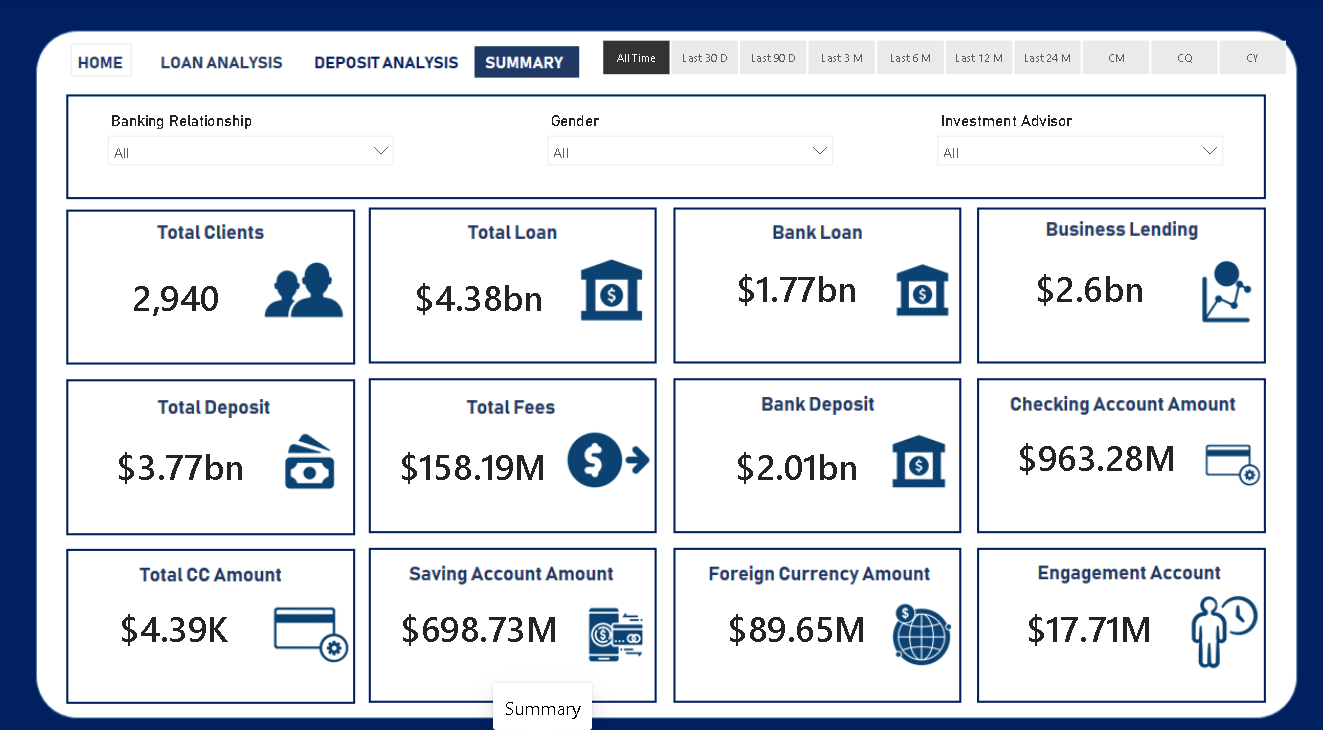

Layout of this report page (visuals, bound fields, positions):
{"tool":"powerbi","page":{"name":"Summary","canvas":[1280,720],"ordinal":3},"visuals":[{"type":"card","fields":{"Values":["DAX Measures.Engagment Length"]},"box":[946.3,546.4,198.2,114.9],"z":0},{"type":"card","fields":{"Values":["DAX Measures.Foreign Currency Account"]},"box":[667.2,546.4,198.2,114.9],"z":1000},{"type":"card","fields":{"Values":["DAX Measures.Bank Deposit"]},"box":[667.2,390.5,198.2,114.9],"z":2000},{"type":"card","fields":{"Values":["DAX Measures.Checking Accounts"]},"box":[953.4,382.3,198.2,114.9],"z":3000},{"type":"card","fields":{"Values":["DAX Measures.Bank Loan"]},"box":[667.2,220.5,198.2,114.9],"z":4000},{"type":"card","fields":{"Values":["DAX Measures.Business Lending"]},"box":[953.4,220.5,184.1,114.9],"z":5000},{"type":"card","fields":{"Values":["DAX Measures.Savings Account"]},"box":[360,546.4,207.6,114.9],"z":6000},{"type":"card","fields":{"Values":["DAX Measures.Total CC Amount"]},"box":[72.7,546.4,198.2,114.9],"z":7000},{"type":"card","fields":{"Values":["DAX Measures.Total Deposit"]},"box":[78.6,390.5,198.2,114.9],"z":8000},{"type":"card","fields":{"Values":["DAX Measures.Total Fees"]},"box":[365.9,390.5,184.1,114.9],"z":9000},{"type":"card","fields":{"Values":["DAX Measures.Total Clients"]},"box":[75,228.7,198.2,114.9],"z":10000},{"type":"card","fields":{"Values":["DAX Measures.Total Loan"]},"box":[365.9,228.7,195.8,114.9],"z":11000},{"type":"slicer","fields":{"Values":["Banking Relationship.Banking Relationship"]},"box":[98.5,104.3,292.9,75.7],"z":12000},{"type":"slicer","fields":{"Values":["Gender.Gender"]},"box":[518.9,104.3,292.9,75.7],"z":13000},{"type":"slicer","fields":{"Values":["Investment Advisor.Investment Advisor"]},"box":[891.3,104.3,292.9,75.7],"z":14000},{"type":"slicer","fields":{"Values":["Period.Name"]},"box":[555.2,34.6,702.1,46.6],"z":15000},{"type":"actionButton","box":[72.8,44.2,58.5,31],"z":16000},{"type":"actionButton","box":[306.9,44.7,119.4,31],"z":17000},{"type":"actionButton","box":[297.9,44.6,147.8,30.5],"z":18000},{"type":"actionButton","box":[157.1,44.6,125.5,30.5],"z":19000}]}

Visuals, with their boxes in screenshot pixels (x1, y1, x2, y2), scaled from the page's 1280x720 canvas onto the 1323x730 screenshot:
card - DAX Measures.Engagment Length: locate(978, 554, 1183, 670)
card - DAX Measures.Foreign Currency Account: locate(690, 554, 894, 670)
card - DAX Measures.Bank Deposit: locate(690, 396, 894, 512)
card - DAX Measures.Checking Accounts: locate(985, 388, 1190, 504)
card - DAX Measures.Bank Loan: locate(690, 224, 894, 340)
card - DAX Measures.Business Lending: locate(985, 224, 1176, 340)
card - DAX Measures.Savings Account: locate(372, 554, 587, 670)
card - DAX Measures.Total CC Amount: locate(75, 554, 280, 670)
card - DAX Measures.Total Deposit: locate(81, 396, 286, 512)
card - DAX Measures.Total Fees: locate(378, 396, 568, 512)
card - DAX Measures.Total Clients: locate(78, 232, 282, 348)
card - DAX Measures.Total Loan: locate(378, 232, 581, 348)
slicer - Banking Relationship.Banking Relationship: locate(102, 106, 405, 182)
slicer - Gender.Gender: locate(536, 106, 839, 182)
slicer - Investment Advisor.Investment Advisor: locate(921, 106, 1224, 182)
slicer - Period.Name: locate(574, 35, 1300, 82)
actionButton: locate(75, 45, 136, 76)
actionButton: locate(317, 45, 441, 77)
actionButton: locate(308, 45, 461, 76)
actionButton: locate(162, 45, 292, 76)
